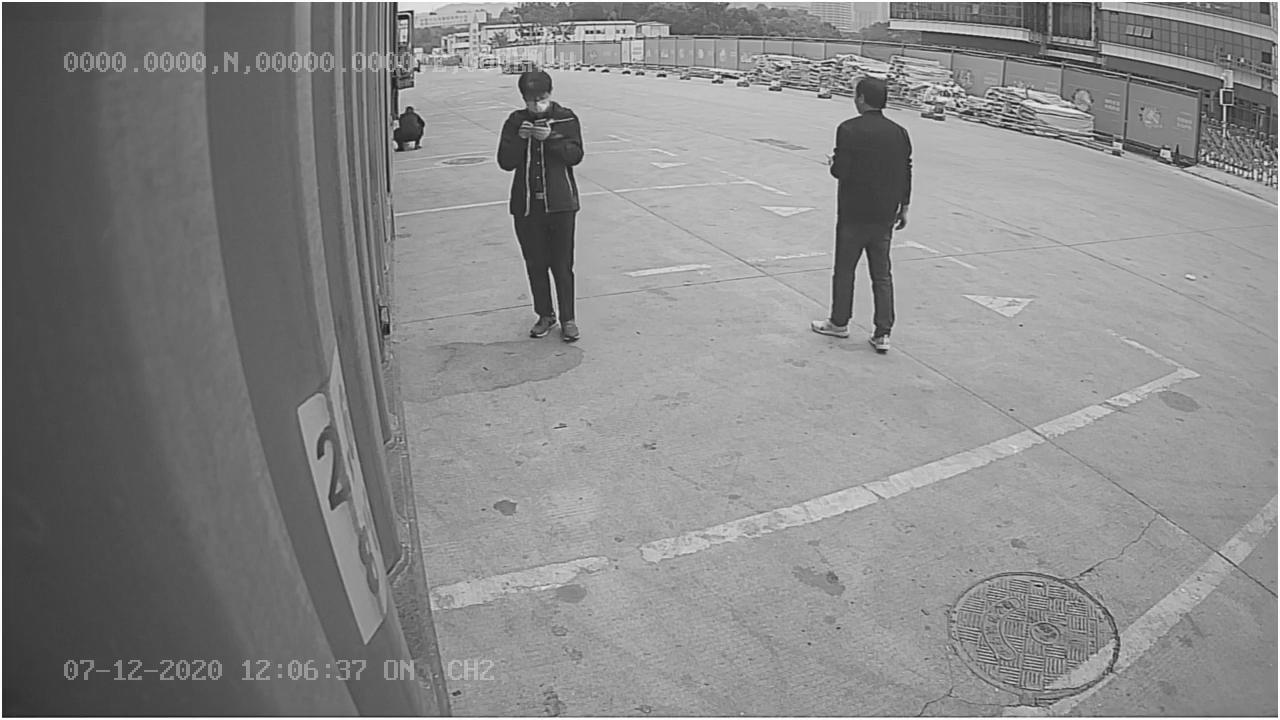person: (807, 72, 911, 353), (494, 67, 591, 345)
